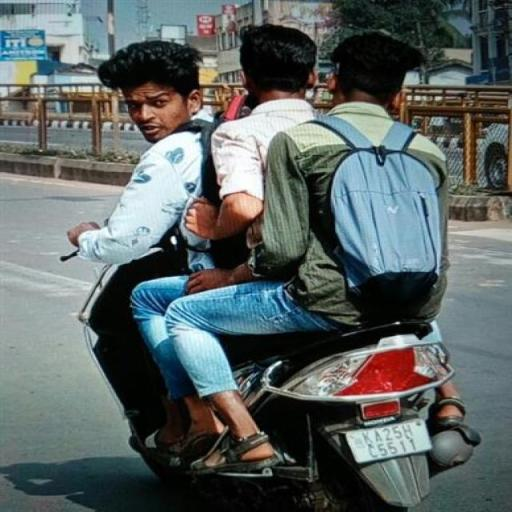tripple riding: (38, 15, 474, 325)
